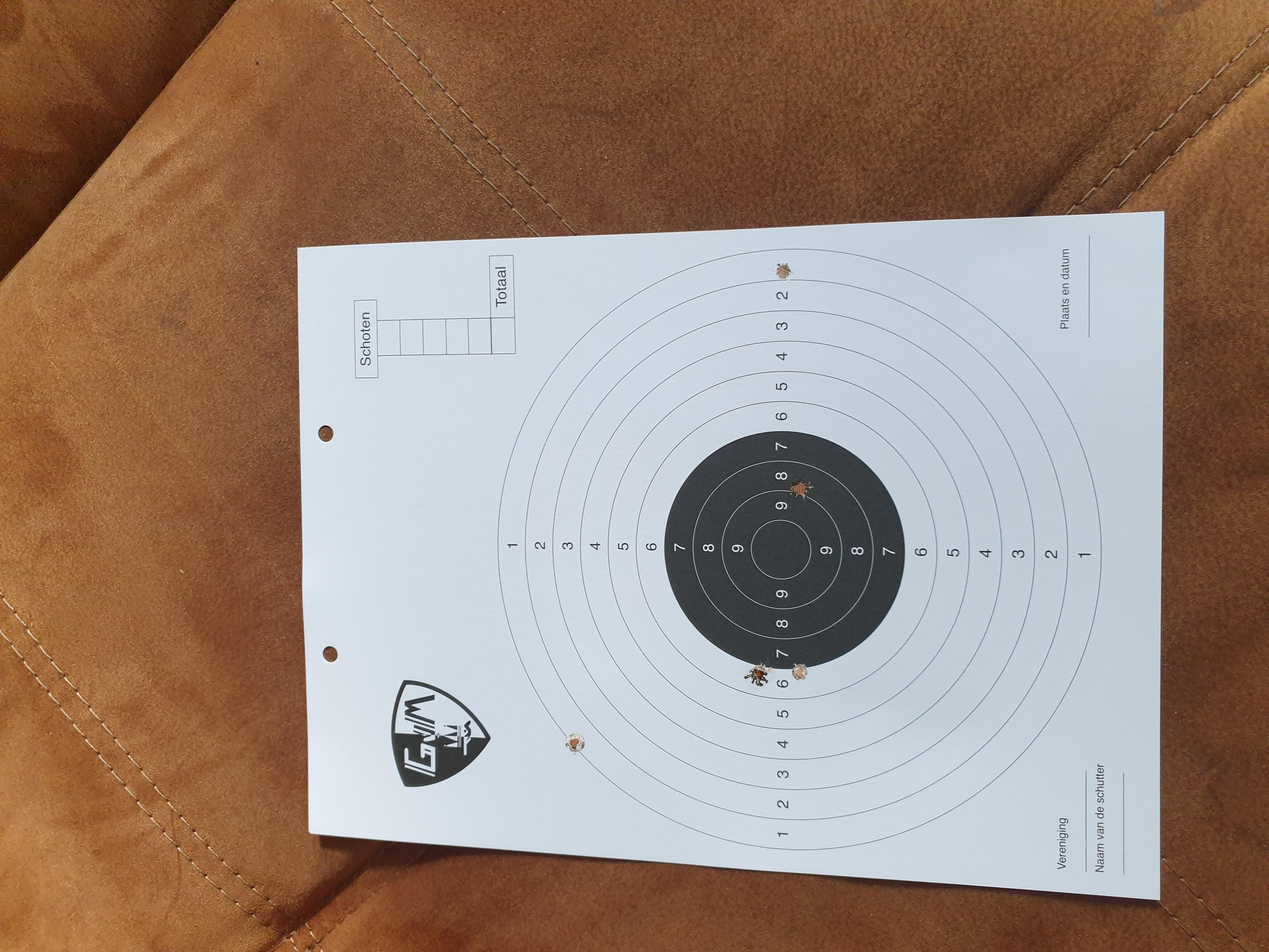hole: (744, 663, 772, 687), (790, 478, 813, 500), (772, 262, 794, 284), (564, 733, 586, 754), (792, 663, 811, 681)
